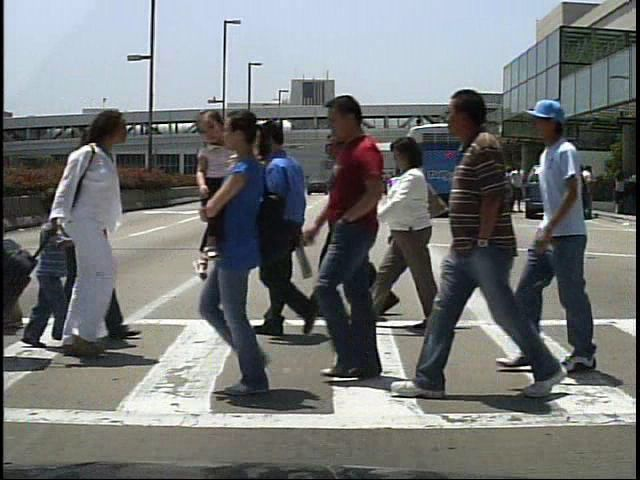person: (436, 84, 553, 417), (34, 113, 145, 362), (324, 95, 410, 382), (236, 122, 336, 346), (524, 101, 601, 377), (378, 136, 462, 336), (314, 130, 387, 322), (61, 114, 115, 361), (10, 196, 73, 356), (582, 168, 602, 218), (507, 166, 527, 215), (495, 165, 513, 218)
